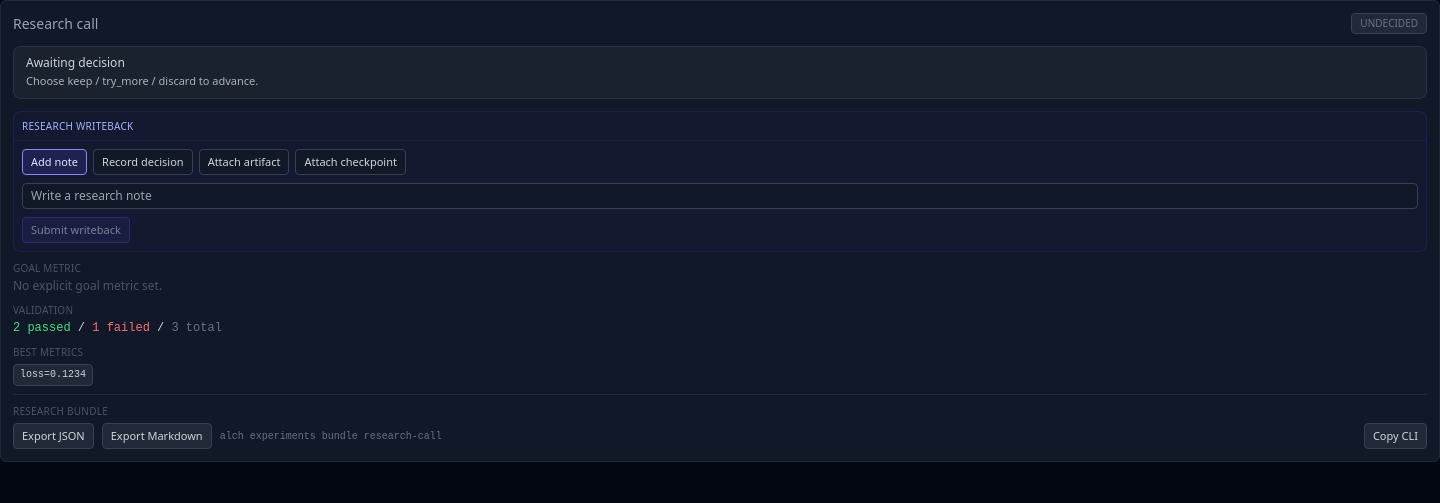
Test: ExperimentResearchCallCard › submits a note via research writeback
expect the button "Submit writeback" is disabled: met, box [22,216,130,242]
Type "Need stronger prior" into the field with placeholder "Write a research note" at (720, 196), box [22,182,1418,208]
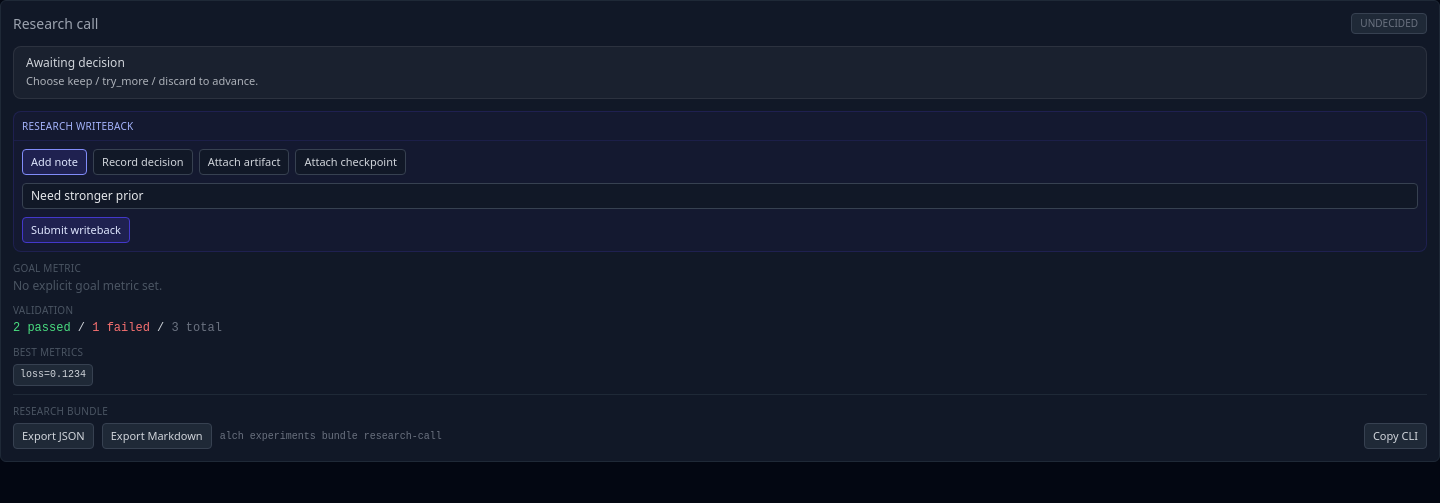
Click the button "Submit writeback" at (76, 230), box [22,216,130,242]
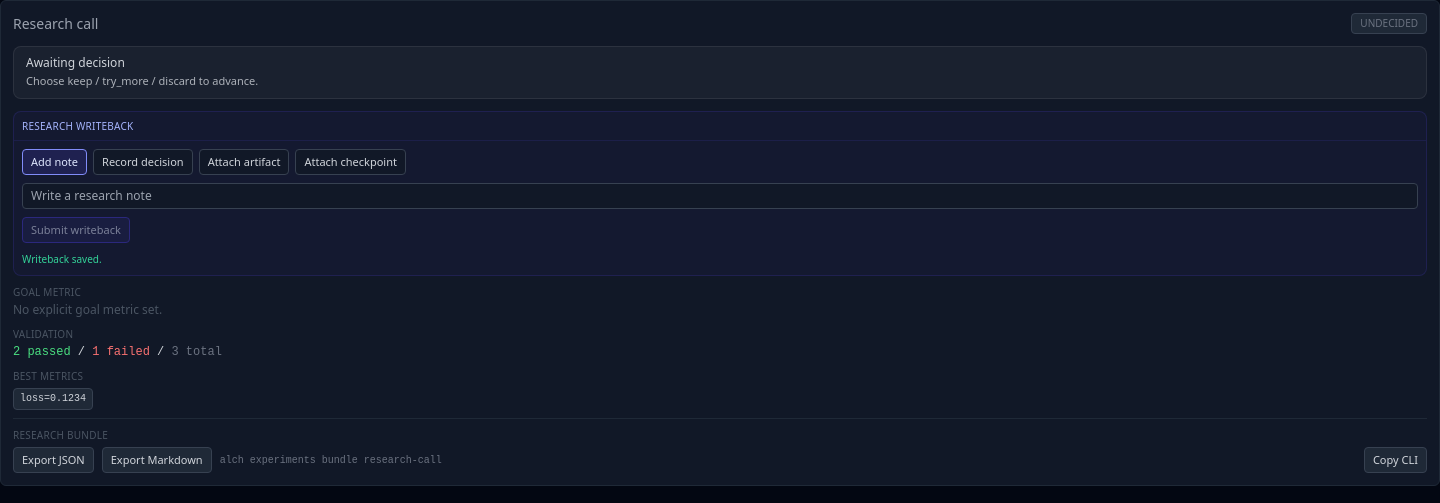
expect the text "Writeback saved." is shown: met, box [22,252,102,266]
expect the field with placeholder "Write a research note" is empty: met, box [22,182,1418,208]
